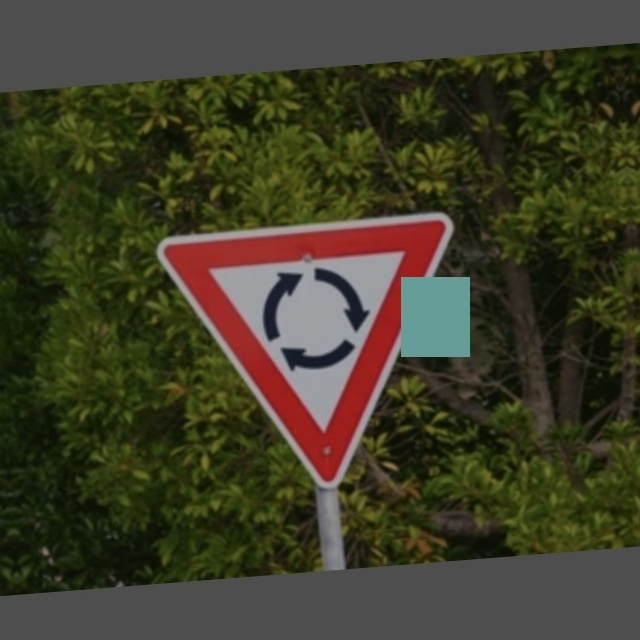Round_About: (159, 202, 470, 495)
